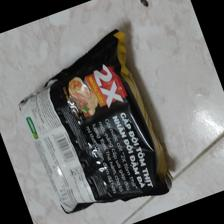3mien: (16, 28, 173, 216)
